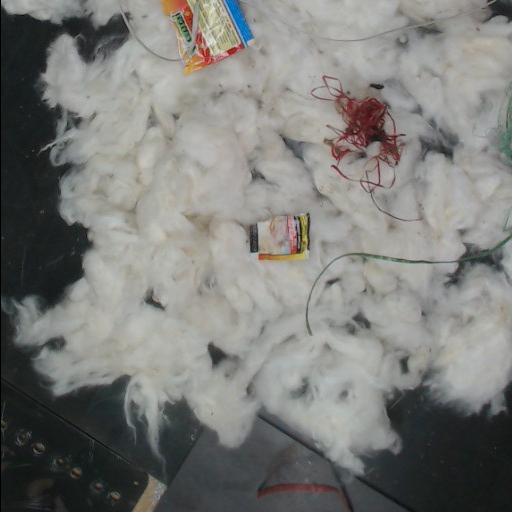conveyor belt: (1, 314, 346, 511), (1, 14, 125, 302), (349, 391, 512, 511), (492, 0, 512, 18)
cotton: (1, 0, 512, 475)
packet: (161, 0, 253, 73), (247, 213, 309, 260)
thread: (305, 228, 512, 335), (311, 75, 404, 192), (257, 458, 355, 511), (320, 12, 465, 42), (117, 0, 185, 63), (369, 192, 422, 219)
